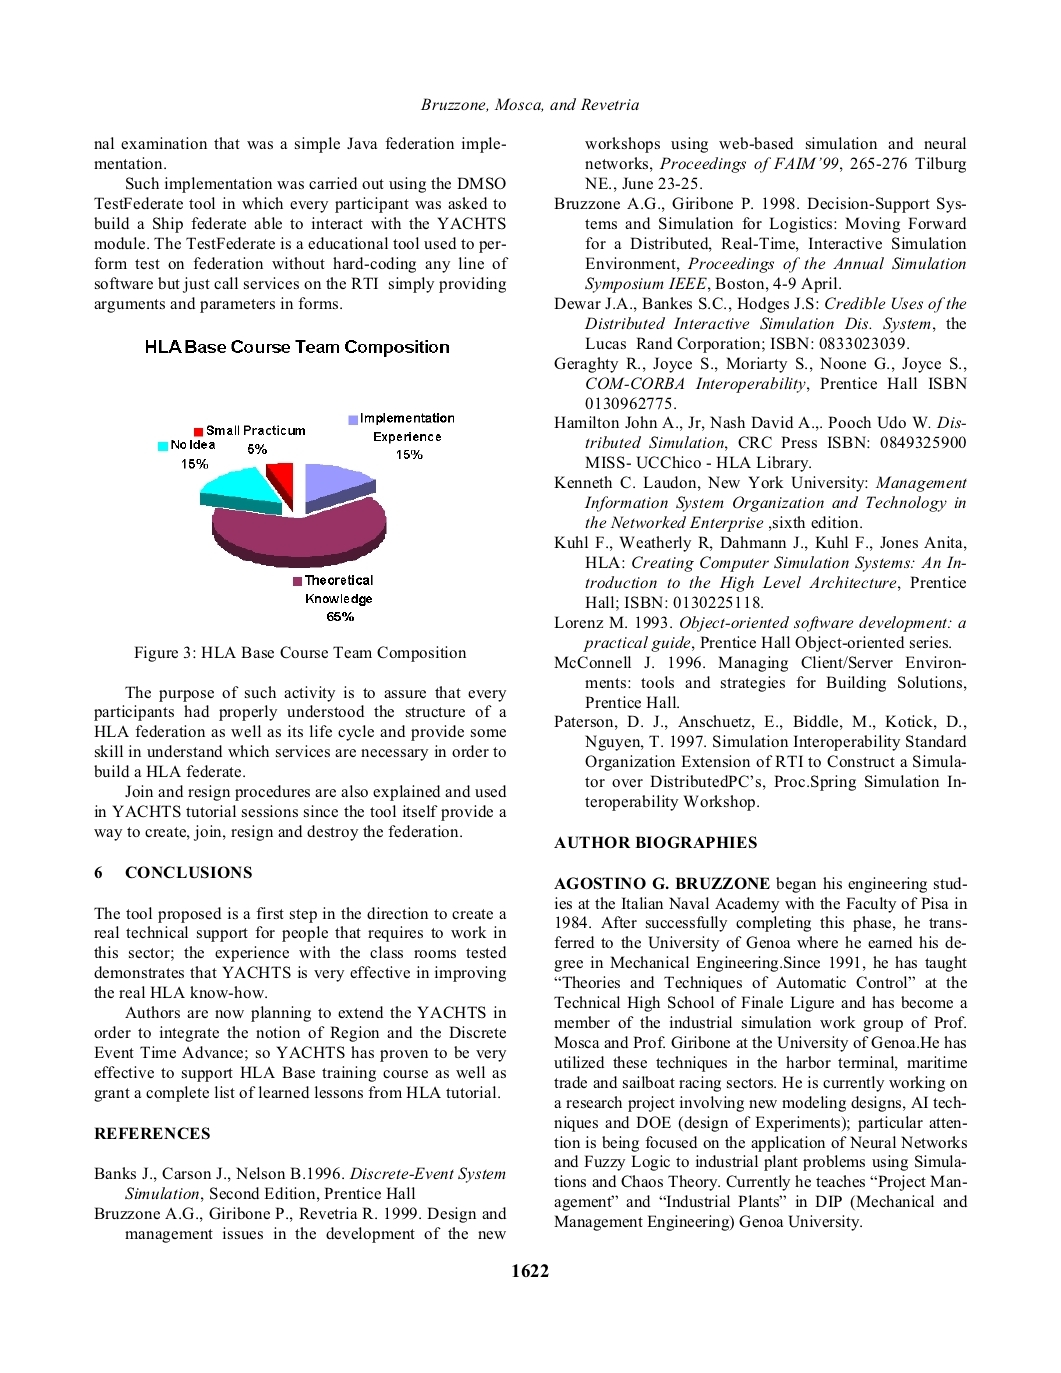figure: (158, 413, 452, 620)
